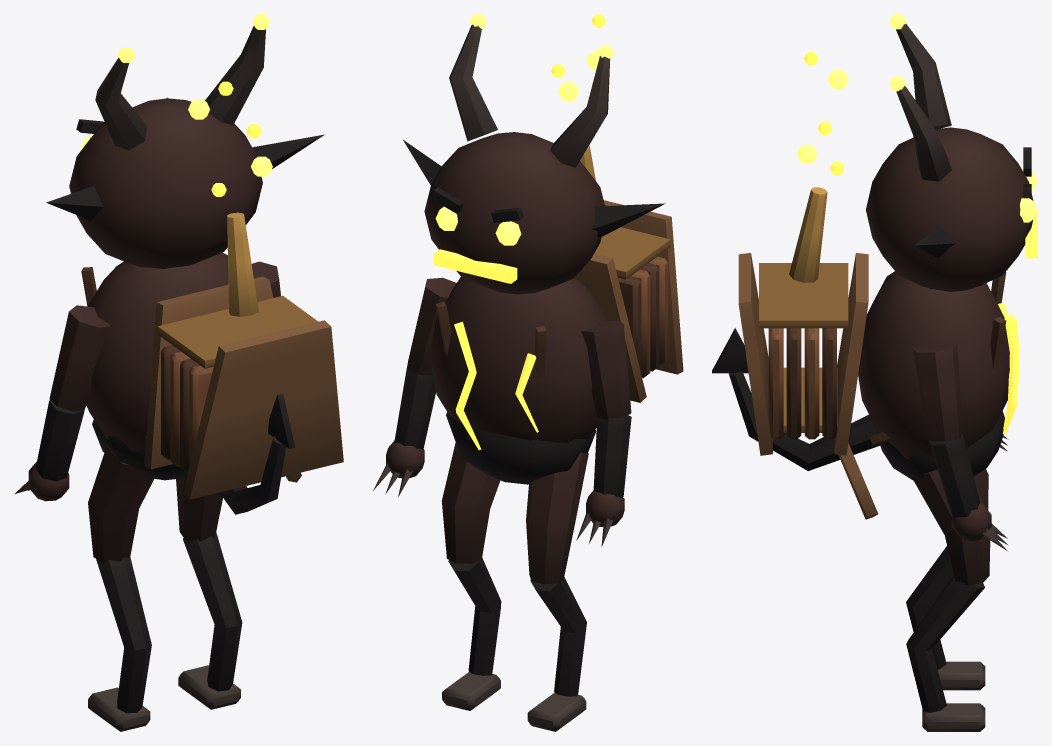
Rendered from mob_bellows_imp.fbx.
The picture shows the model from 3 angles, left to right: view 1: azimuth 30°, elevation 25°; view 2: azimuth 150°, elevation 25°; view 3: azimuth 270°, elevation 25°; orthographic projection. The views are drawn at different scales.
Parts seen in each view (by area): view 1: ExtraBellows, Head, Body, KneeR, KneeL, LegL, ArmL, ForearmL, LegR, ExtraBellows_Glow_Molten, ArmR, ExtraBellows_Glow_Ember; view 2: Head, Body, ExtraBellows, LegL, KneeL, KneeR, LegR, ForearmL, ForearmR, ArmL, ArmR, Body_Glow_Ember (+2 smaller); view 3: Body, Head, ExtraBellows, KneeR, ArmR, ForearmR, KneeL, LegR, Body_Glow_Ember, Head_Glow_Molten, ExtraBellows_Glow_Molten.
Part boxes in pixels (box(x1,y1,x2,y2)): ExtraBellows: box(144, 212, 343, 499); Head: box(46, 26, 324, 268); Body: box(81, 252, 301, 514); KneeR: box(178, 532, 242, 709); KneeL: box(88, 557, 151, 731); LegL: box(88, 446, 153, 563); ArmL: box(49, 305, 111, 411); ForearmL: box(15, 400, 84, 501); LegR: box(176, 478, 222, 541); ExtraBellows_Glow_Molten: box(188, 99, 272, 176); ArmR: box(251, 261, 280, 297); ExtraBellows_Glow_Ember: box(211, 81, 261, 196); Head: box(403, 24, 665, 294); Body: box(429, 277, 608, 484); ExtraBellows: box(575, 145, 683, 402); LegL: box(526, 452, 588, 584); KneeL: box(527, 577, 586, 731); KneeR: box(442, 557, 501, 710); LegR: box(441, 443, 500, 563); ForearmL: box(576, 415, 631, 546); ForearmR: box(373, 366, 435, 497); ArmL: box(581, 320, 631, 419); ArmR: box(407, 277, 456, 375); Body_Glow_Ember: box(454, 321, 538, 450); Body: box(712, 271, 1009, 519); Head: box(866, 23, 1033, 291); ExtraBellows: box(738, 187, 868, 455); KneeR: box(906, 576, 985, 731); ArmR: box(912, 343, 962, 441); ForearmR: box(928, 433, 1007, 550); KneeL: box(906, 546, 985, 690); LegR: box(911, 470, 990, 585); Body_Glow_Ember: box(998, 303, 1019, 434); Head_Glow_Molten: box(889, 14, 1037, 222); ExtraBellows_Glow_Molten: box(797, 70, 848, 163).
Bounding box in the file's own units: 174 × 416 × 186.
3 materials, 1 textured.
